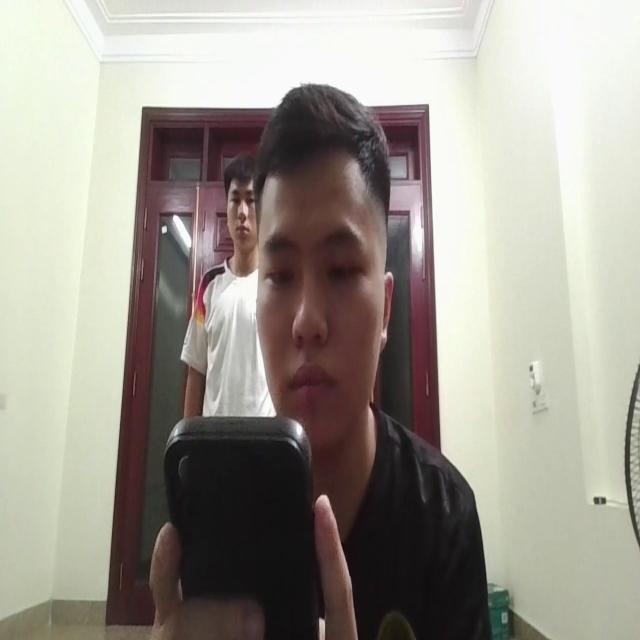extra_person: (179, 135, 270, 425)
phone: (164, 398, 324, 631)
student: (171, 77, 485, 640)
